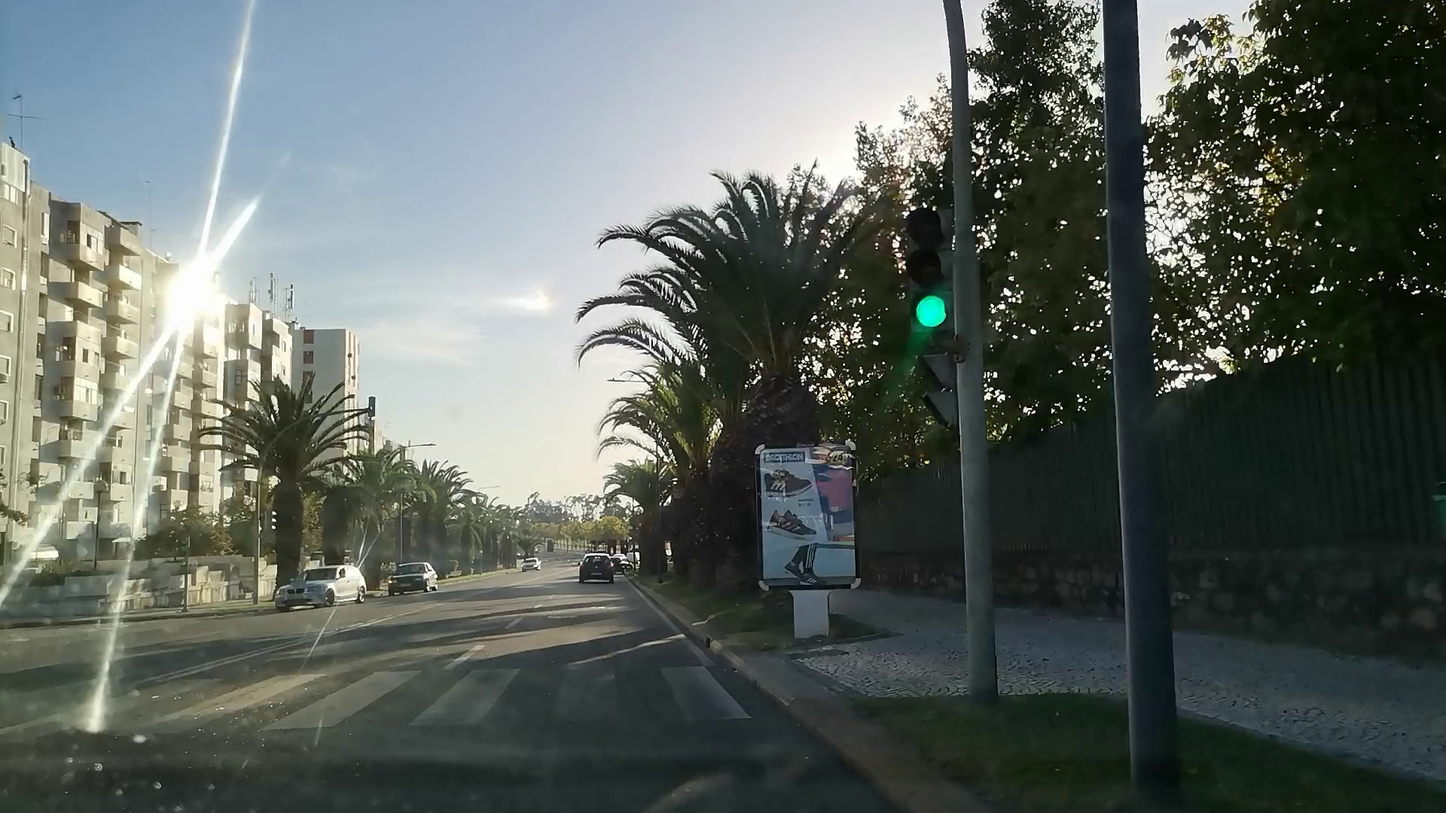Stairs: (0, 660, 753, 736)
